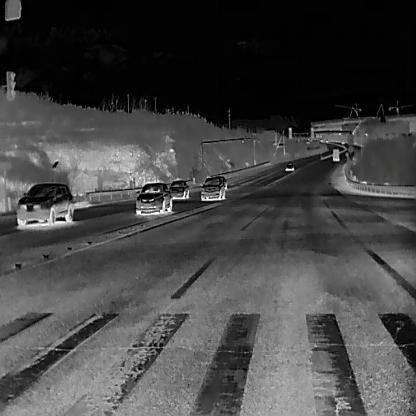car: (15, 181, 73, 227), (135, 181, 172, 215), (199, 175, 225, 200), (167, 179, 189, 199), (214, 175, 227, 189), (332, 147, 340, 161), (284, 161, 294, 171), (341, 139, 345, 145), (319, 138, 323, 143), (325, 138, 329, 142)
crosswalk: (0, 298, 416, 416)
